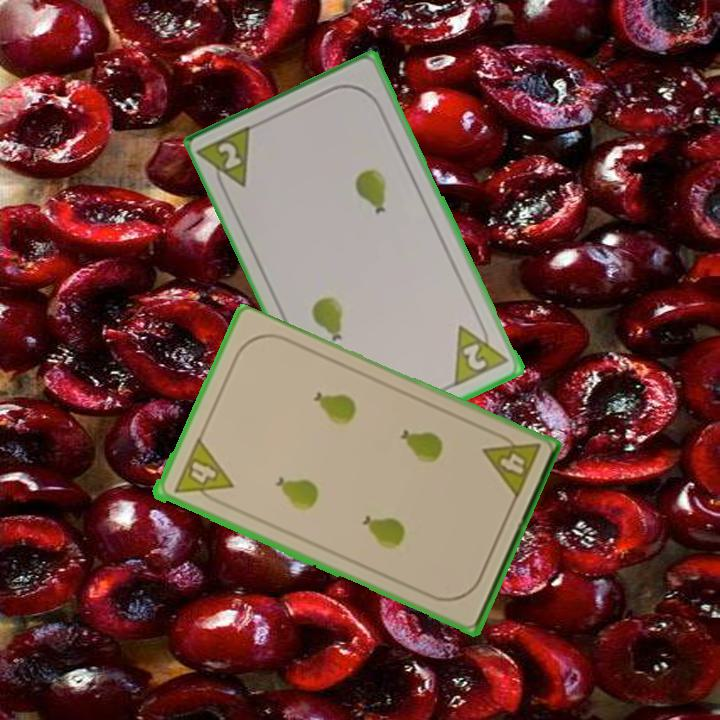2p: (196, 121, 258, 198), (450, 314, 512, 389)
4p: (478, 426, 543, 502), (169, 436, 235, 509)
